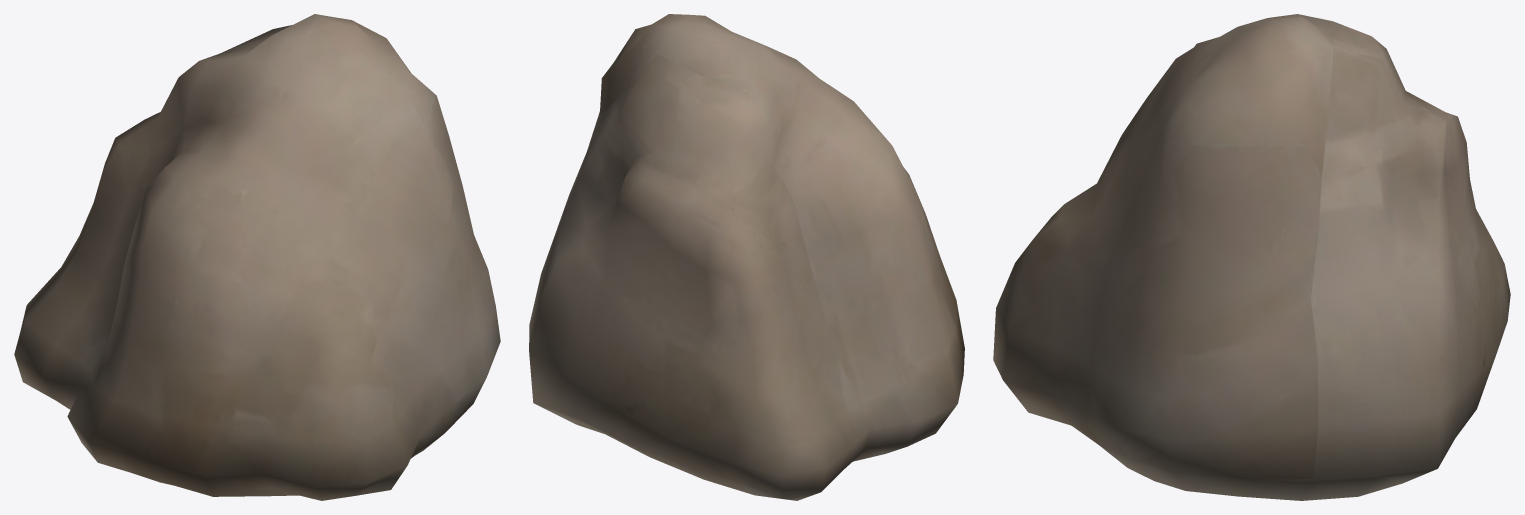
3 views of the same model, side by side, from view 1: azimuth 30°, elevation 25°; view 2: azimuth 150°, elevation 25°; view 3: azimuth 270°, elevation 25° (orthographic). The views are drawn at different scales.
Parts seen in each view (by area): view 1: body0_model0_lod0_mesh0; view 2: body0_model0_lod0_mesh0; view 3: body0_model0_lod0_mesh0.
Boxes of the visible parts, x1,y1,x2,y2 form: body0_model0_lod0_mesh0: [14, 14, 500, 500]; body0_model0_lod0_mesh0: [529, 14, 964, 500]; body0_model0_lod0_mesh0: [993, 14, 1510, 500].
Size of the model in its own units: 134 by 133 by 140.
Materials: 1 (1 with a texture image).
